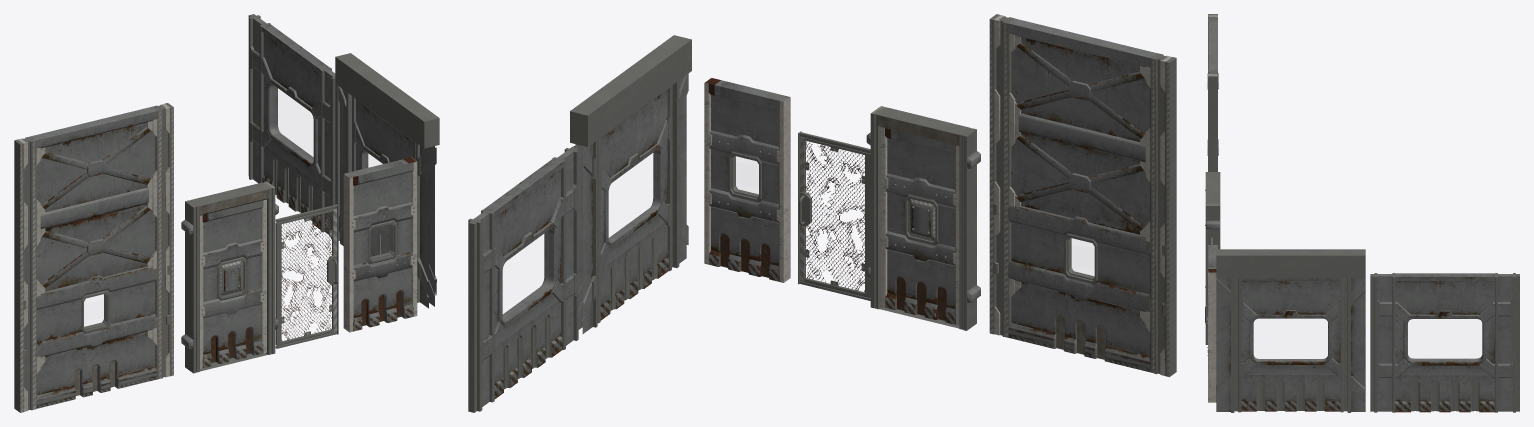
File: DoorsK2.fbx
3 views of the same model, side by side, from view 1: azimuth 30°, elevation 25°; view 2: azimuth 150°, elevation 25°; view 3: azimuth 270°, elevation 25° (orthographic). The views are drawn at different scales.
Parts seen in each view (by area): view 1: SM_SlidingDoor_3x5.mo, SM_SlidingDoor_3x3_C.mo, SM_SlidingDoor_C.mo, SM_SlidingDoor_D.mo, SM_SlidingDoor_3x5_Frame.mo, SM_SlidingDoor_3x3_B.mo, SM_SlidingDoor_C_Frame.mo, SM_SlidingGate_Chainlink.mo, SM_SlidingDoor_3x3_A.mo; view 2: SM_SlidingDoor_3x5.mo, SM_SlidingDoor_3x3_C.mo, SM_SlidingDoor_C.mo, SM_SlidingDoor_D.mo, SM_SlidingDoor_3x5_Frame.mo, SM_SlidingDoor_3x3_B.mo, SM_SlidingDoor_3x3_A.mo, SM_SlidingDoor_C_Frame.mo, SM_SlidingGate_Chainlink.mo; view 3: SM_SlidingDoor_3x3_C.mo, SM_SlidingDoor_3x3_A.mo, SM_SlidingDoor_3x3_B.mo, SM_SlidingDoor_C.mo, SM_SlidingDoor_C_Frame.mo, SM_SlidingDoor_3x5_Frame.mo, SM_SlidingDoor_3x5.mo.
Boxes of the visible parts, x1,y1,x2,y2 form: SM_SlidingDoor_3x5.mo: [27, 106, 161, 409]; SM_SlidingDoor_3x3_C.mo: [248, 14, 339, 240]; SM_SlidingDoor_C.mo: [343, 157, 417, 332]; SM_SlidingDoor_D.mo: [200, 199, 266, 368]; SM_SlidingDoor_3x5_Frame.mo: [14, 103, 173, 412]; SM_SlidingDoor_3x3_B.mo: [335, 53, 439, 308]; SM_SlidingDoor_C_Frame.mo: [181, 181, 278, 373]; SM_SlidingGate_Chainlink.mo: [275, 204, 338, 348]; SM_SlidingDoor_3x3_A.mo: [352, 96, 415, 256]; SM_SlidingDoor_3x5.mo: [1004, 17, 1161, 373]; SM_SlidingDoor_3x3_C.mo: [468, 146, 578, 412]; SM_SlidingDoor_C.mo: [704, 78, 790, 282]; SM_SlidingDoor_D.mo: [880, 127, 959, 325]; SM_SlidingDoor_3x5_Frame.mo: [989, 14, 1176, 377]; SM_SlidingDoor_3x3_B.mo: [570, 35, 691, 333]; SM_SlidingDoor_3x3_A.mo: [597, 85, 672, 323]; SM_SlidingDoor_C_Frame.mo: [866, 106, 980, 330]; SM_SlidingGate_Chainlink.mo: [798, 131, 870, 300]; SM_SlidingDoor_3x3_C.mo: [1370, 273, 1519, 412]; SM_SlidingDoor_3x3_A.mo: [1234, 278, 1347, 412]; SM_SlidingDoor_3x3_B.mo: [1216, 249, 1365, 412]; SM_SlidingDoor_C.mo: [1207, 245, 1217, 402]; SM_SlidingDoor_C_Frame.mo: [1205, 172, 1220, 344]; SM_SlidingDoor_3x5_Frame.mo: [1208, 14, 1217, 171]; SM_SlidingDoor_3x5.mo: [1207, 19, 1218, 155].
Bounding box in the file's own units: 827 × 503 × 632.
